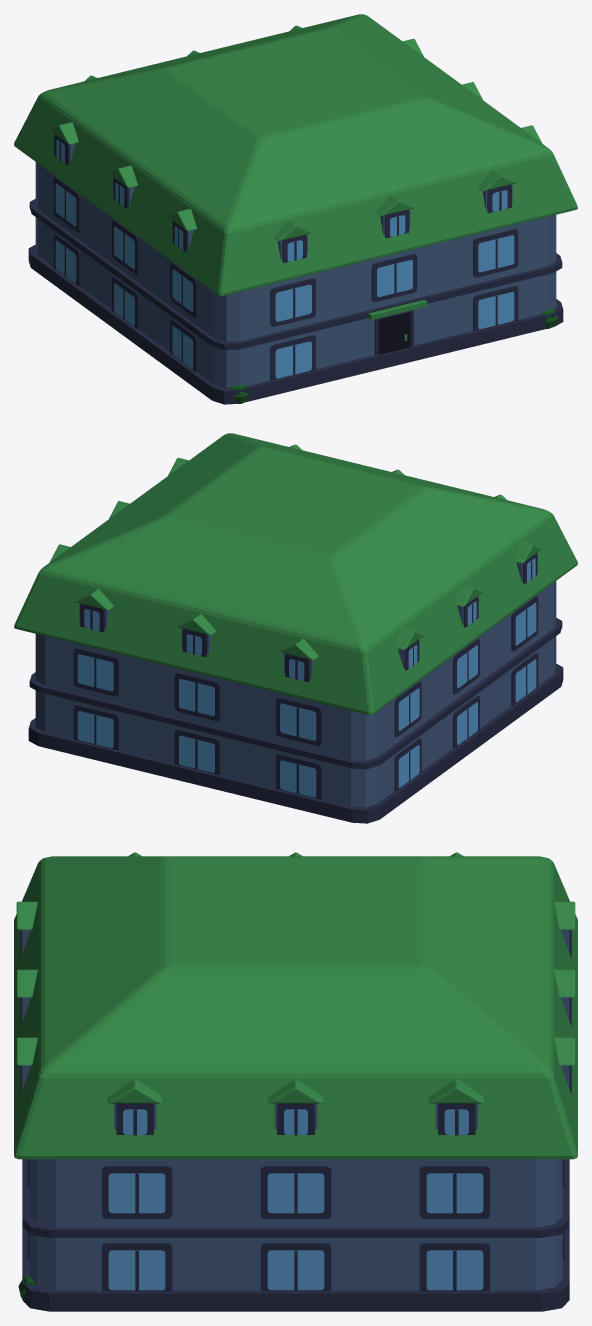
File: house-2x2-2f-mansard-b.glb
The picture shows the model from 3 angles, top to bottom: view 1: azimuth 30°, elevation 25°; view 2: azimuth 150°, elevation 25°; view 3: azimuth 270°, elevation 25°; orthographic projection. The views are drawn at different scales.
Parts seen in each view (by area): view 1: house-2x2-2f-mansard-b; view 2: house-2x2-2f-mansard-b; view 3: house-2x2-2f-mansard-b.
Part boxes in pixels (x1,y1,x2,y2): house-2x2-2f-mansard-b: (14,14,577,404); house-2x2-2f-mansard-b: (14,433,577,823); house-2x2-2f-mansard-b: (14,852,577,1311).
Bounding box in the file's own units: 1.99 × 1.11 × 1.99.
1 material, 1 textured.
